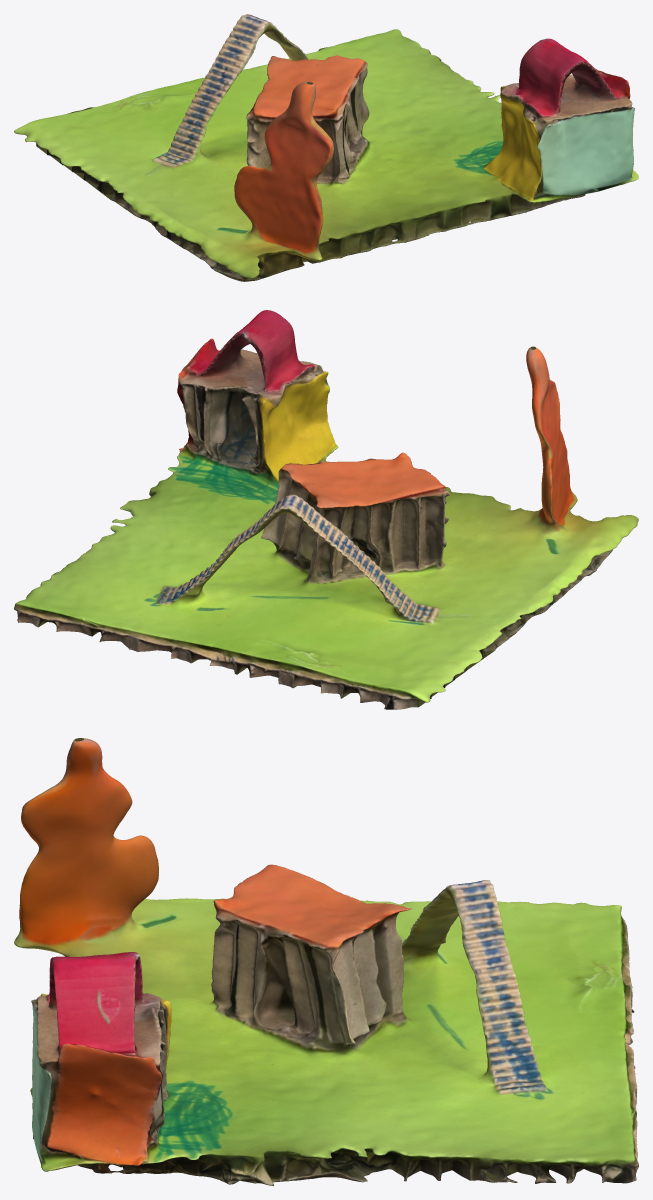
File: Hotel_ganze_Anlage 1.fbx
The picture shows the model from 3 angles, top to bottom: view 1: azimuth 30°, elevation 25°; view 2: azimuth 150°, elevation 25°; view 3: azimuth 270°, elevation 25°; orthographic projection. The views are drawn at different scales.
Parts seen in each view (by area): view 1: Landschaft_mit Hausern; view 2: Landschaft_mit Hausern; view 3: Landschaft_mit Hausern.
Boxes of the visible parts, bbox=[...] form: Landschaft_mit Hausern: bbox=[14, 14, 638, 281]; Landschaft_mit Hausern: bbox=[14, 310, 638, 709]; Landschaft_mit Hausern: bbox=[14, 738, 638, 1185].
Size of the model in its own units: 62.37 by 26.14 by 59.36.
1 material, 1 textured.
